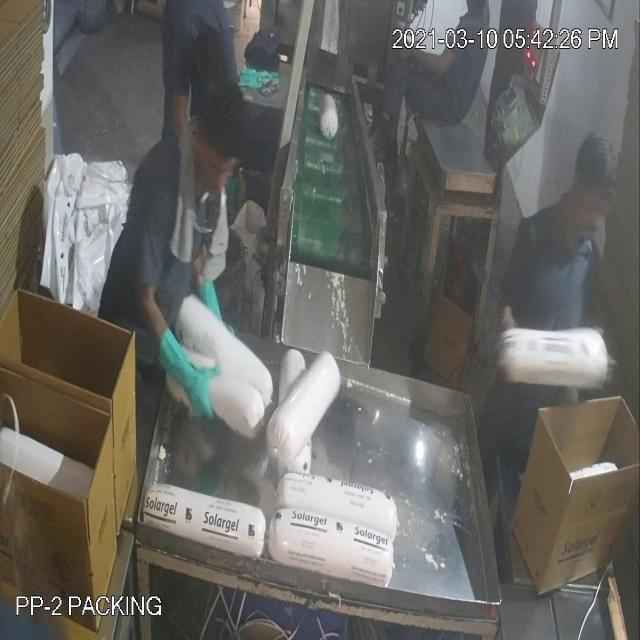Gloves: (75, 33, 427, 386)
